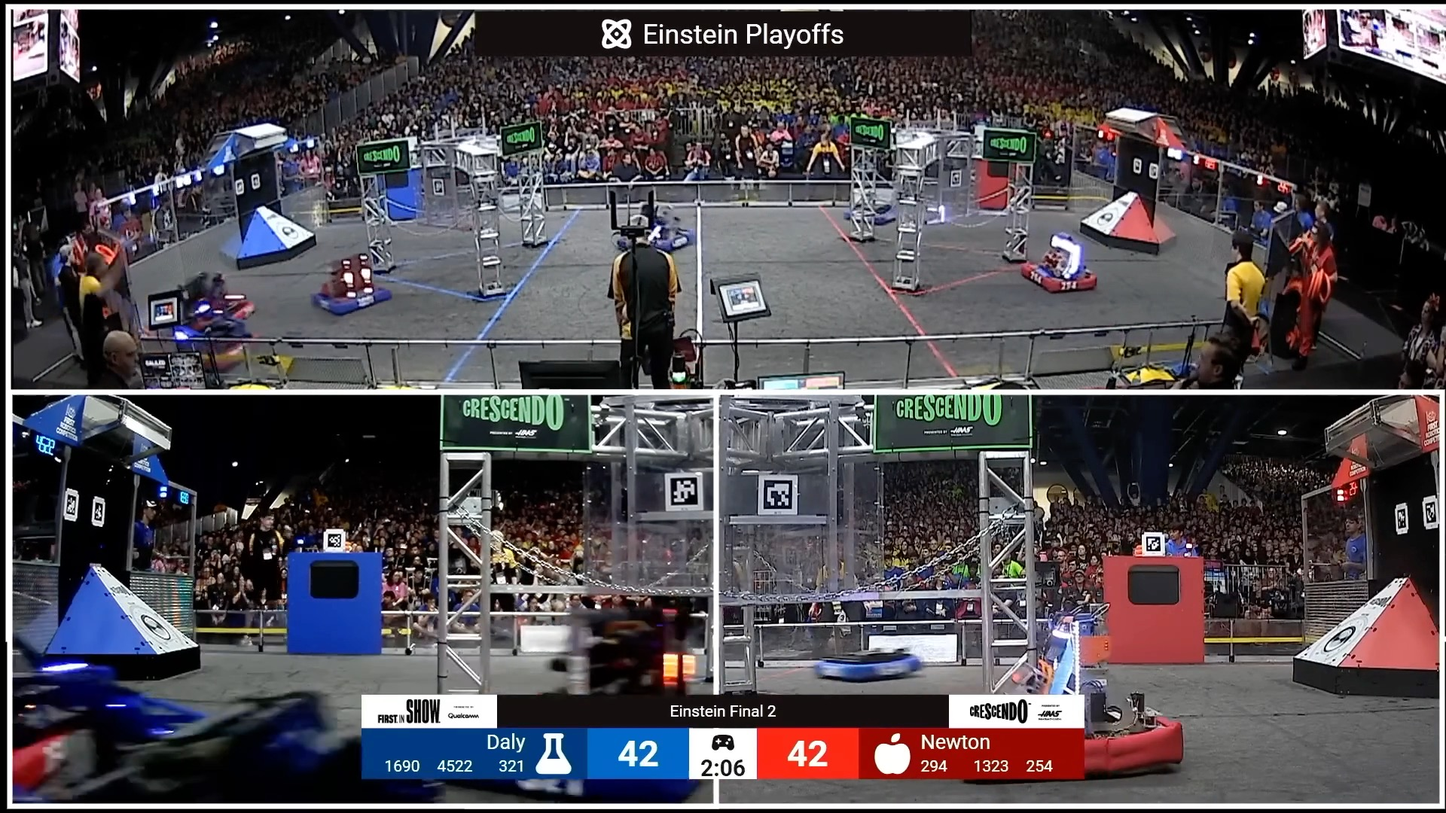bumpers: (907, 704, 1189, 784), (812, 649, 932, 690), (309, 283, 399, 321), (1018, 260, 1104, 298), (616, 226, 702, 254), (840, 209, 903, 229)
